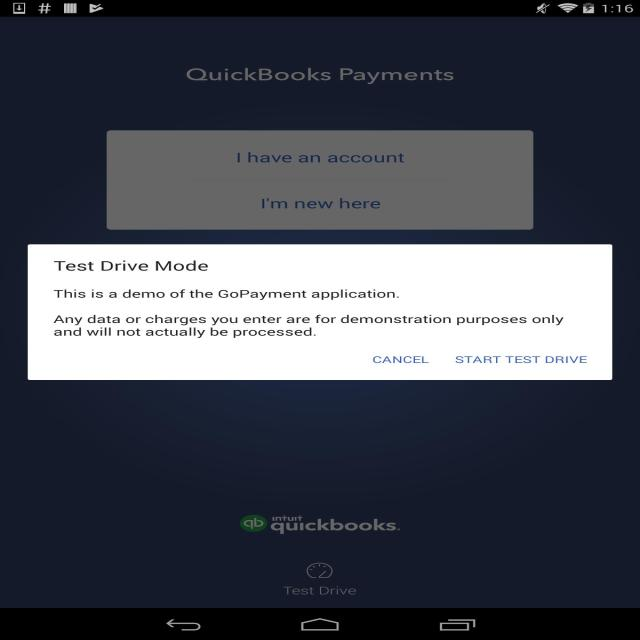button: (109, 131, 534, 181), (108, 182, 533, 230), (451, 347, 593, 372), (362, 346, 438, 372)
heading: (181, 66, 461, 88), (52, 258, 210, 276)
image: (232, 509, 404, 538), (280, 562, 360, 600)
text: (53, 314, 563, 338), (48, 288, 402, 302)
